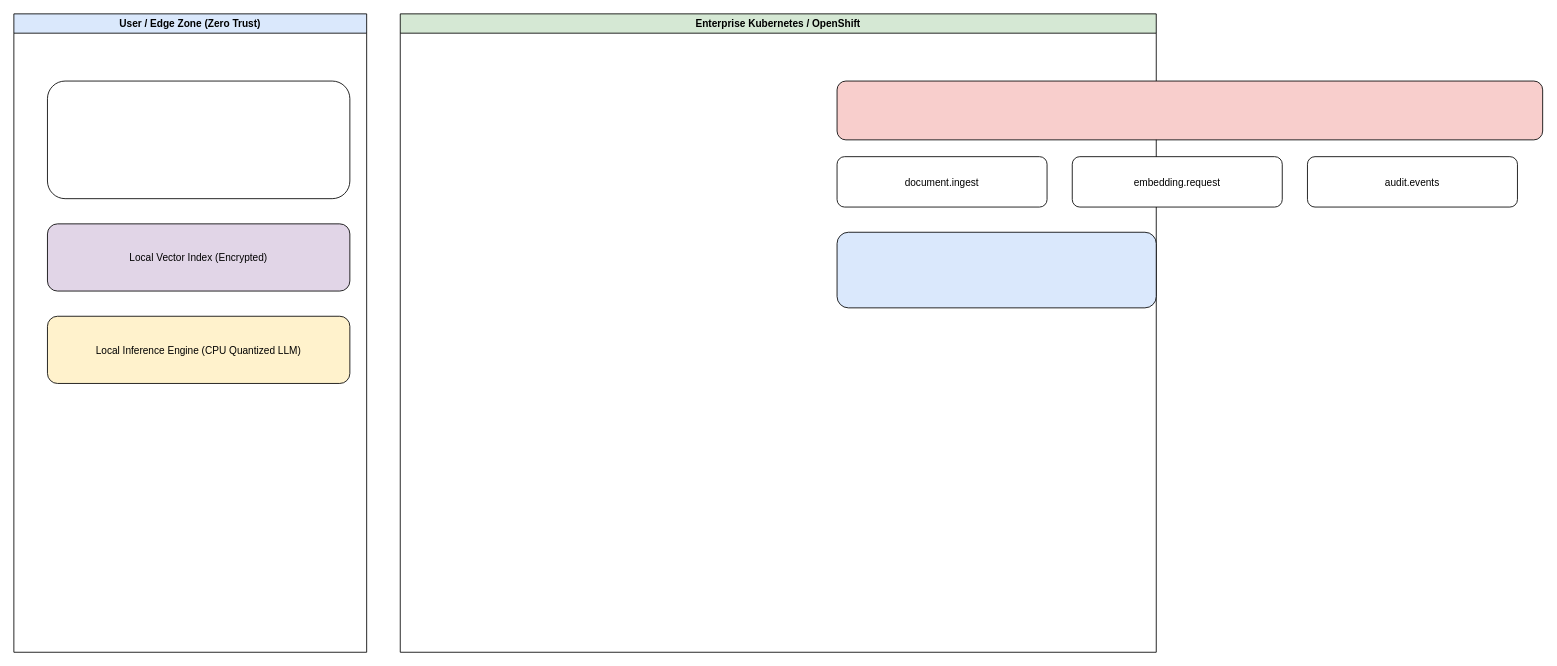
This 1557x666 diagram has some shape labels left out. The shapes that lost their labels are listed below. From the top down, each one's centre as x and y in pixels, then its label:
[1189,110]: Kafka Cluster (Multi-Region, TLS, ACLs)
[198,139]: Thin Client - Encrypted Docs - Local FAISS - CPU-only LLM - Client Key Mgmt
[996,269]: Ingestion Service (Docker + HPA)
